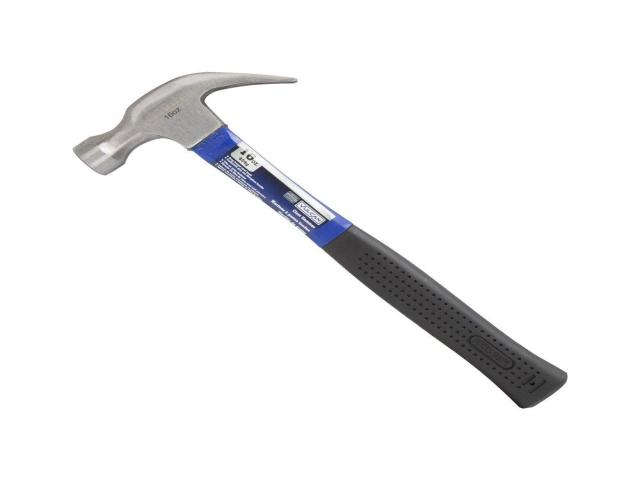hammer: (70, 72, 570, 410)
